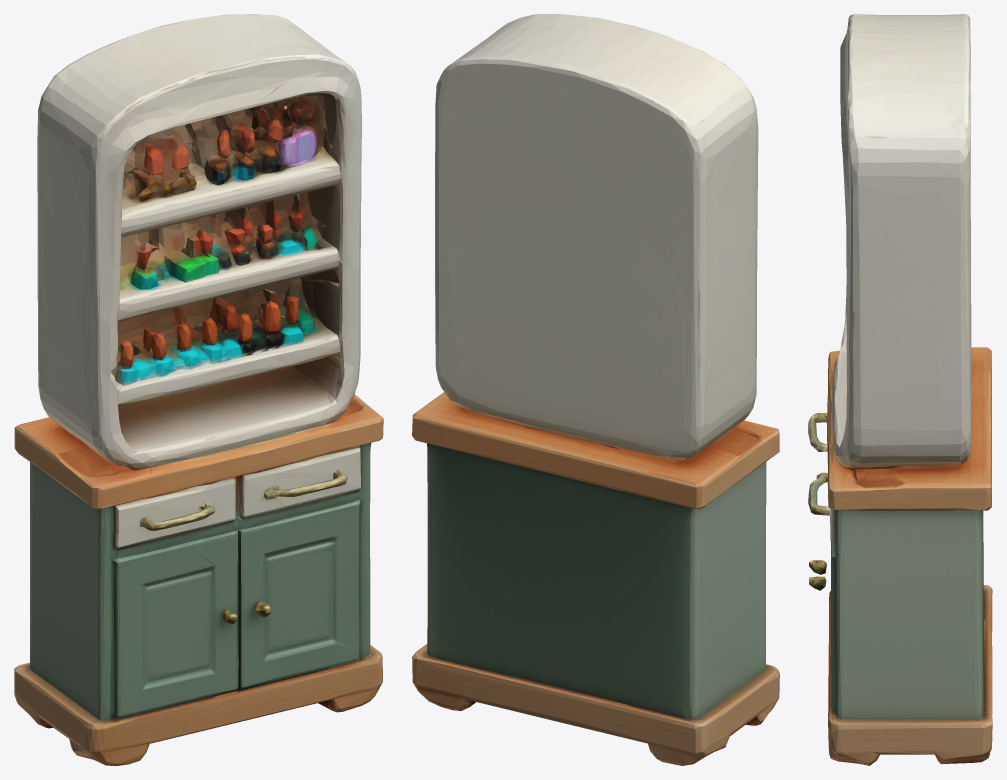
Rendered from pharmacy.glb.
3 renders of one model, left to right at view 1: azimuth 30°, elevation 25°; view 2: azimuth 150°, elevation 25°; view 3: azimuth 270°, elevation 25°, orthographic.
Parts seen in each view (by area): view 1: geometry_0; view 2: geometry_0; view 3: geometry_0.
Part boxes in pixels (bbox=[...]): geometry_0: bbox=[14, 14, 383, 765]; geometry_0: bbox=[412, 14, 779, 765]; geometry_0: bbox=[808, 14, 992, 765].
Bounding box in the file's own units: 0.4619 × 1 × 0.2542.
1 material, 1 textured.
